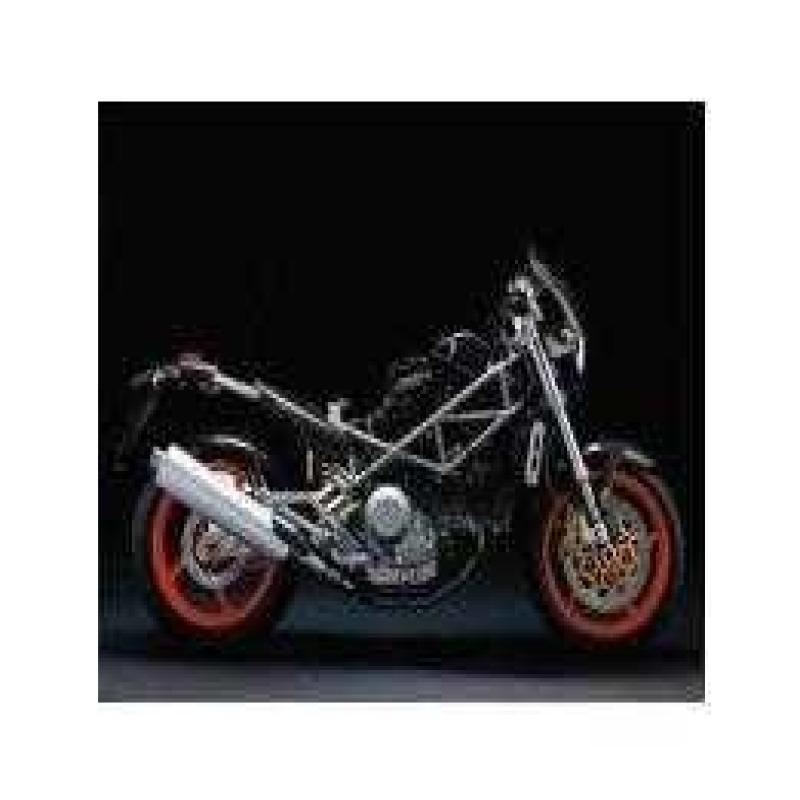bike: (100, 205, 695, 647)
